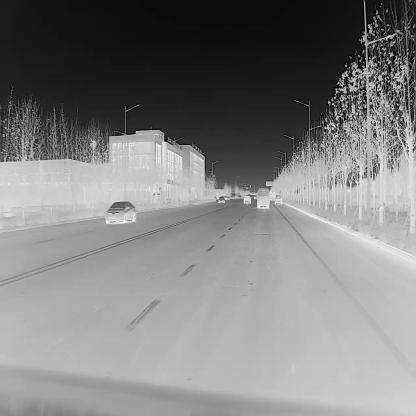car: (104, 199, 137, 223), (256, 186, 270, 208), (243, 193, 252, 204), (274, 194, 282, 204), (218, 195, 225, 203), (222, 194, 230, 200), (270, 195, 275, 201), (253, 194, 258, 200)
